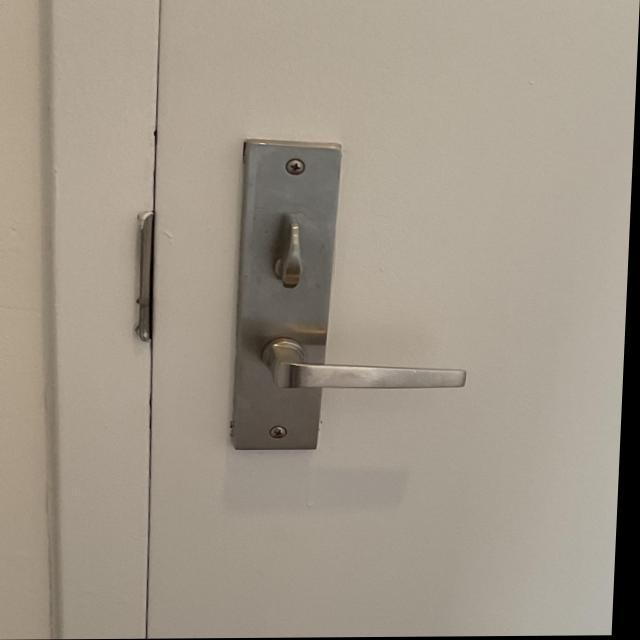door_handle: (246, 333, 486, 406)
